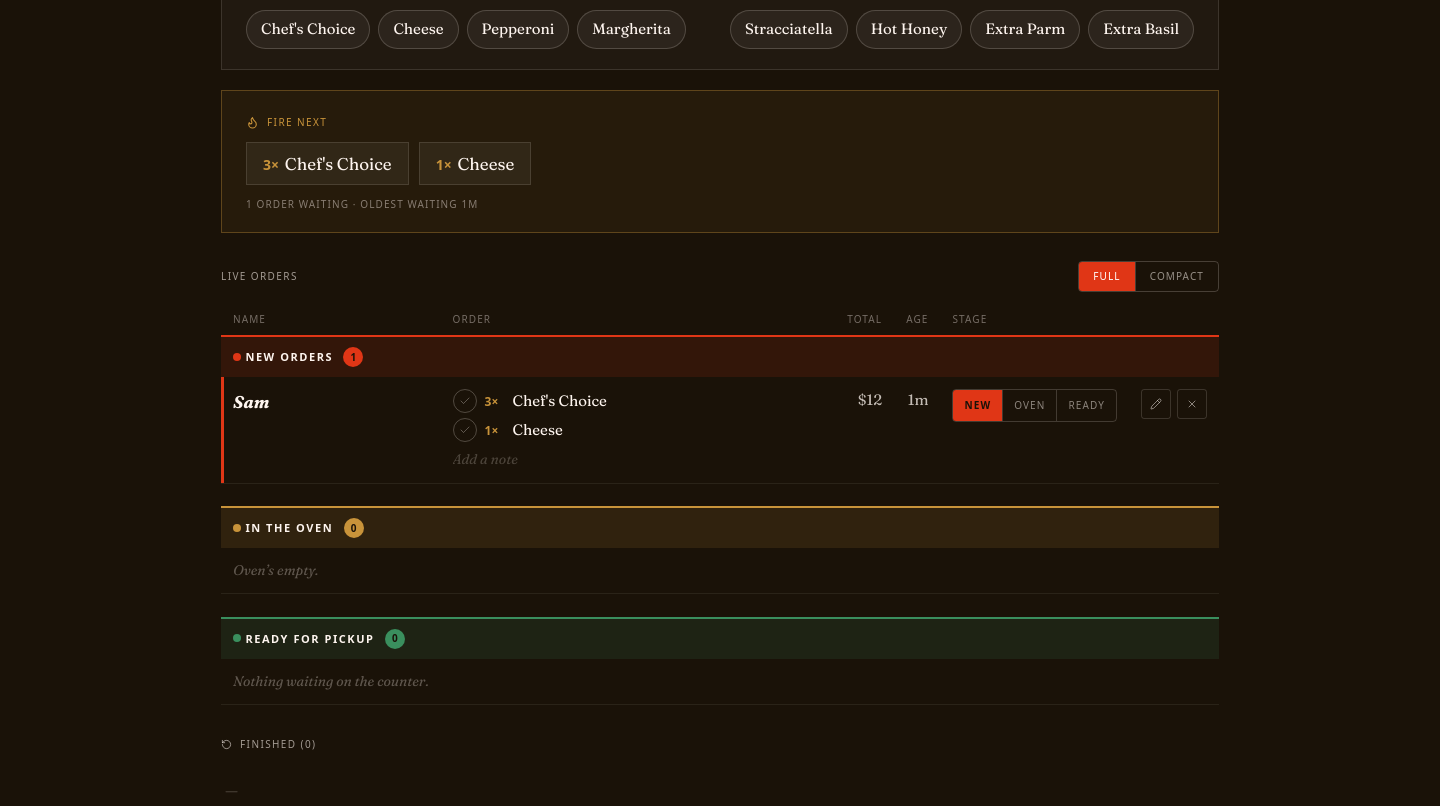
AdminPage — handing over part of an order › sends quick taps one at a time and in order, and never steps the count back
The width and height of the screenshot is (1440, 806).
(page scrolled)
Expected: the element named "stage for sam" is shown, top-left (952, 389), bottom-right (1117, 422)
Click the button named "Hand over one Chef's Choice to Sam" at (464, 401), box top-left (452, 389), bottom-right (476, 413)
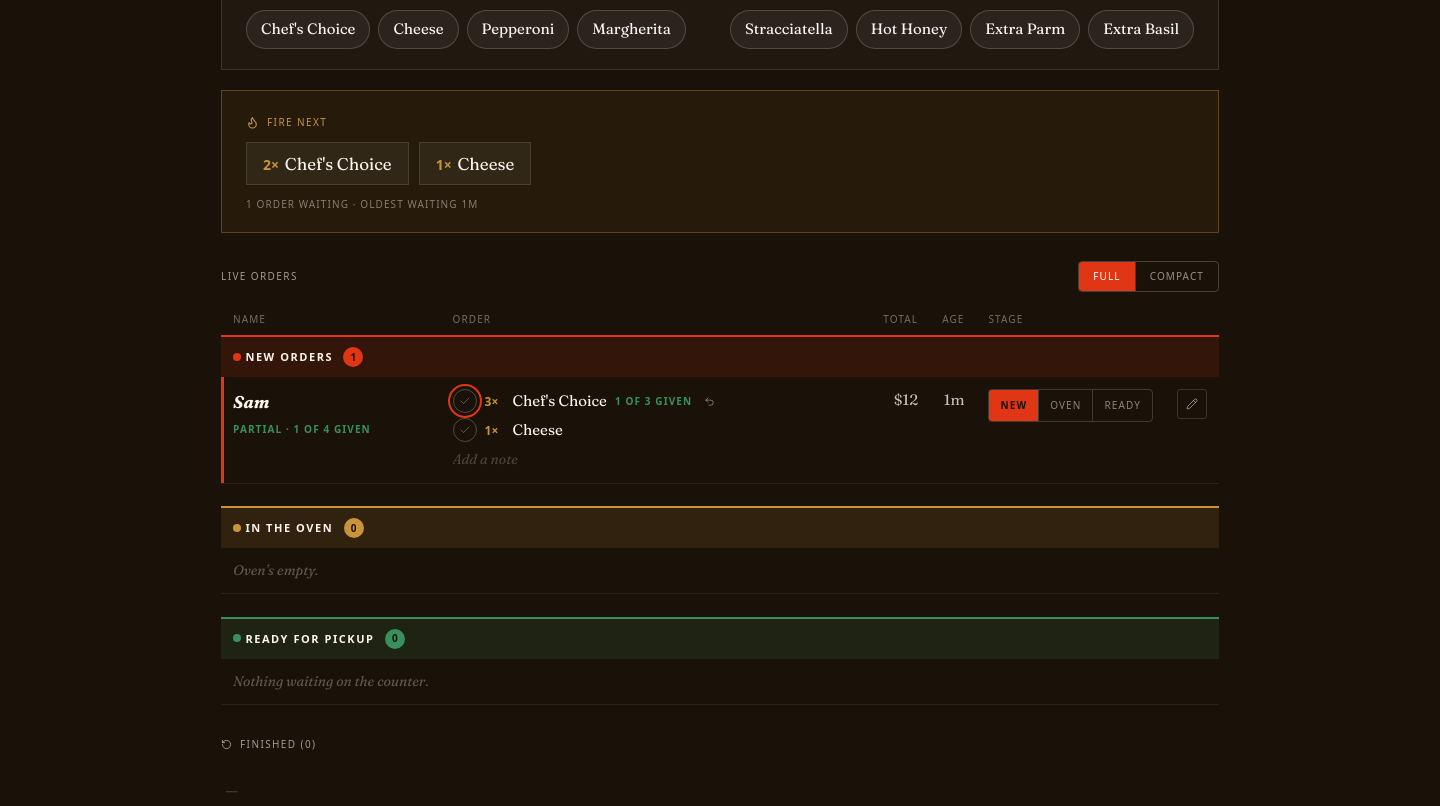
Click the button named "Hand over one Chef's Choice to Sam" at (464, 401), box top-left (452, 389), bottom-right (476, 413)
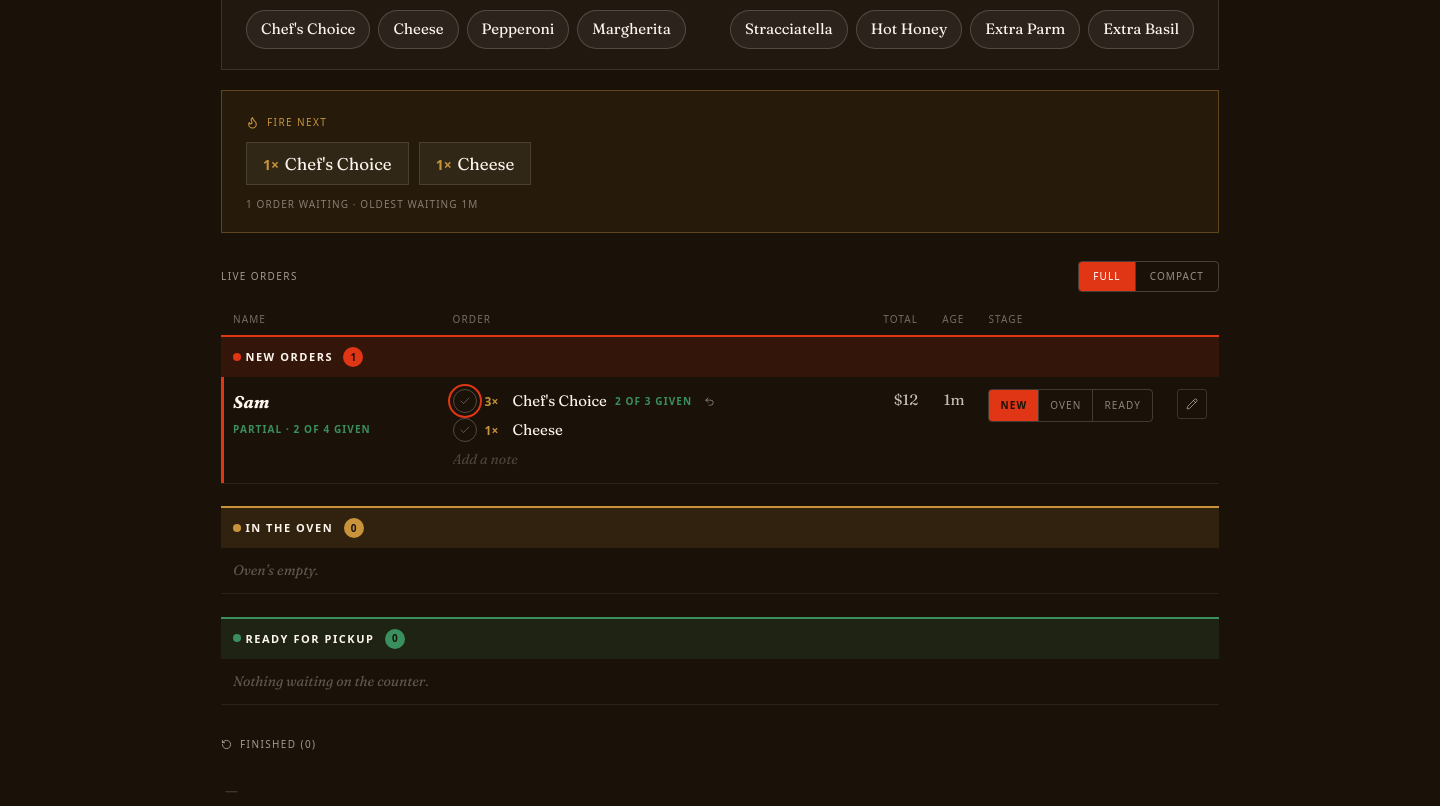
Expected: the text "2 of 3 given" is shown, top-left (615, 394), bottom-right (692, 408)
Expected: the text "Partial · 2 of 4 given" is shown, top-left (233, 422), bottom-right (371, 436)
